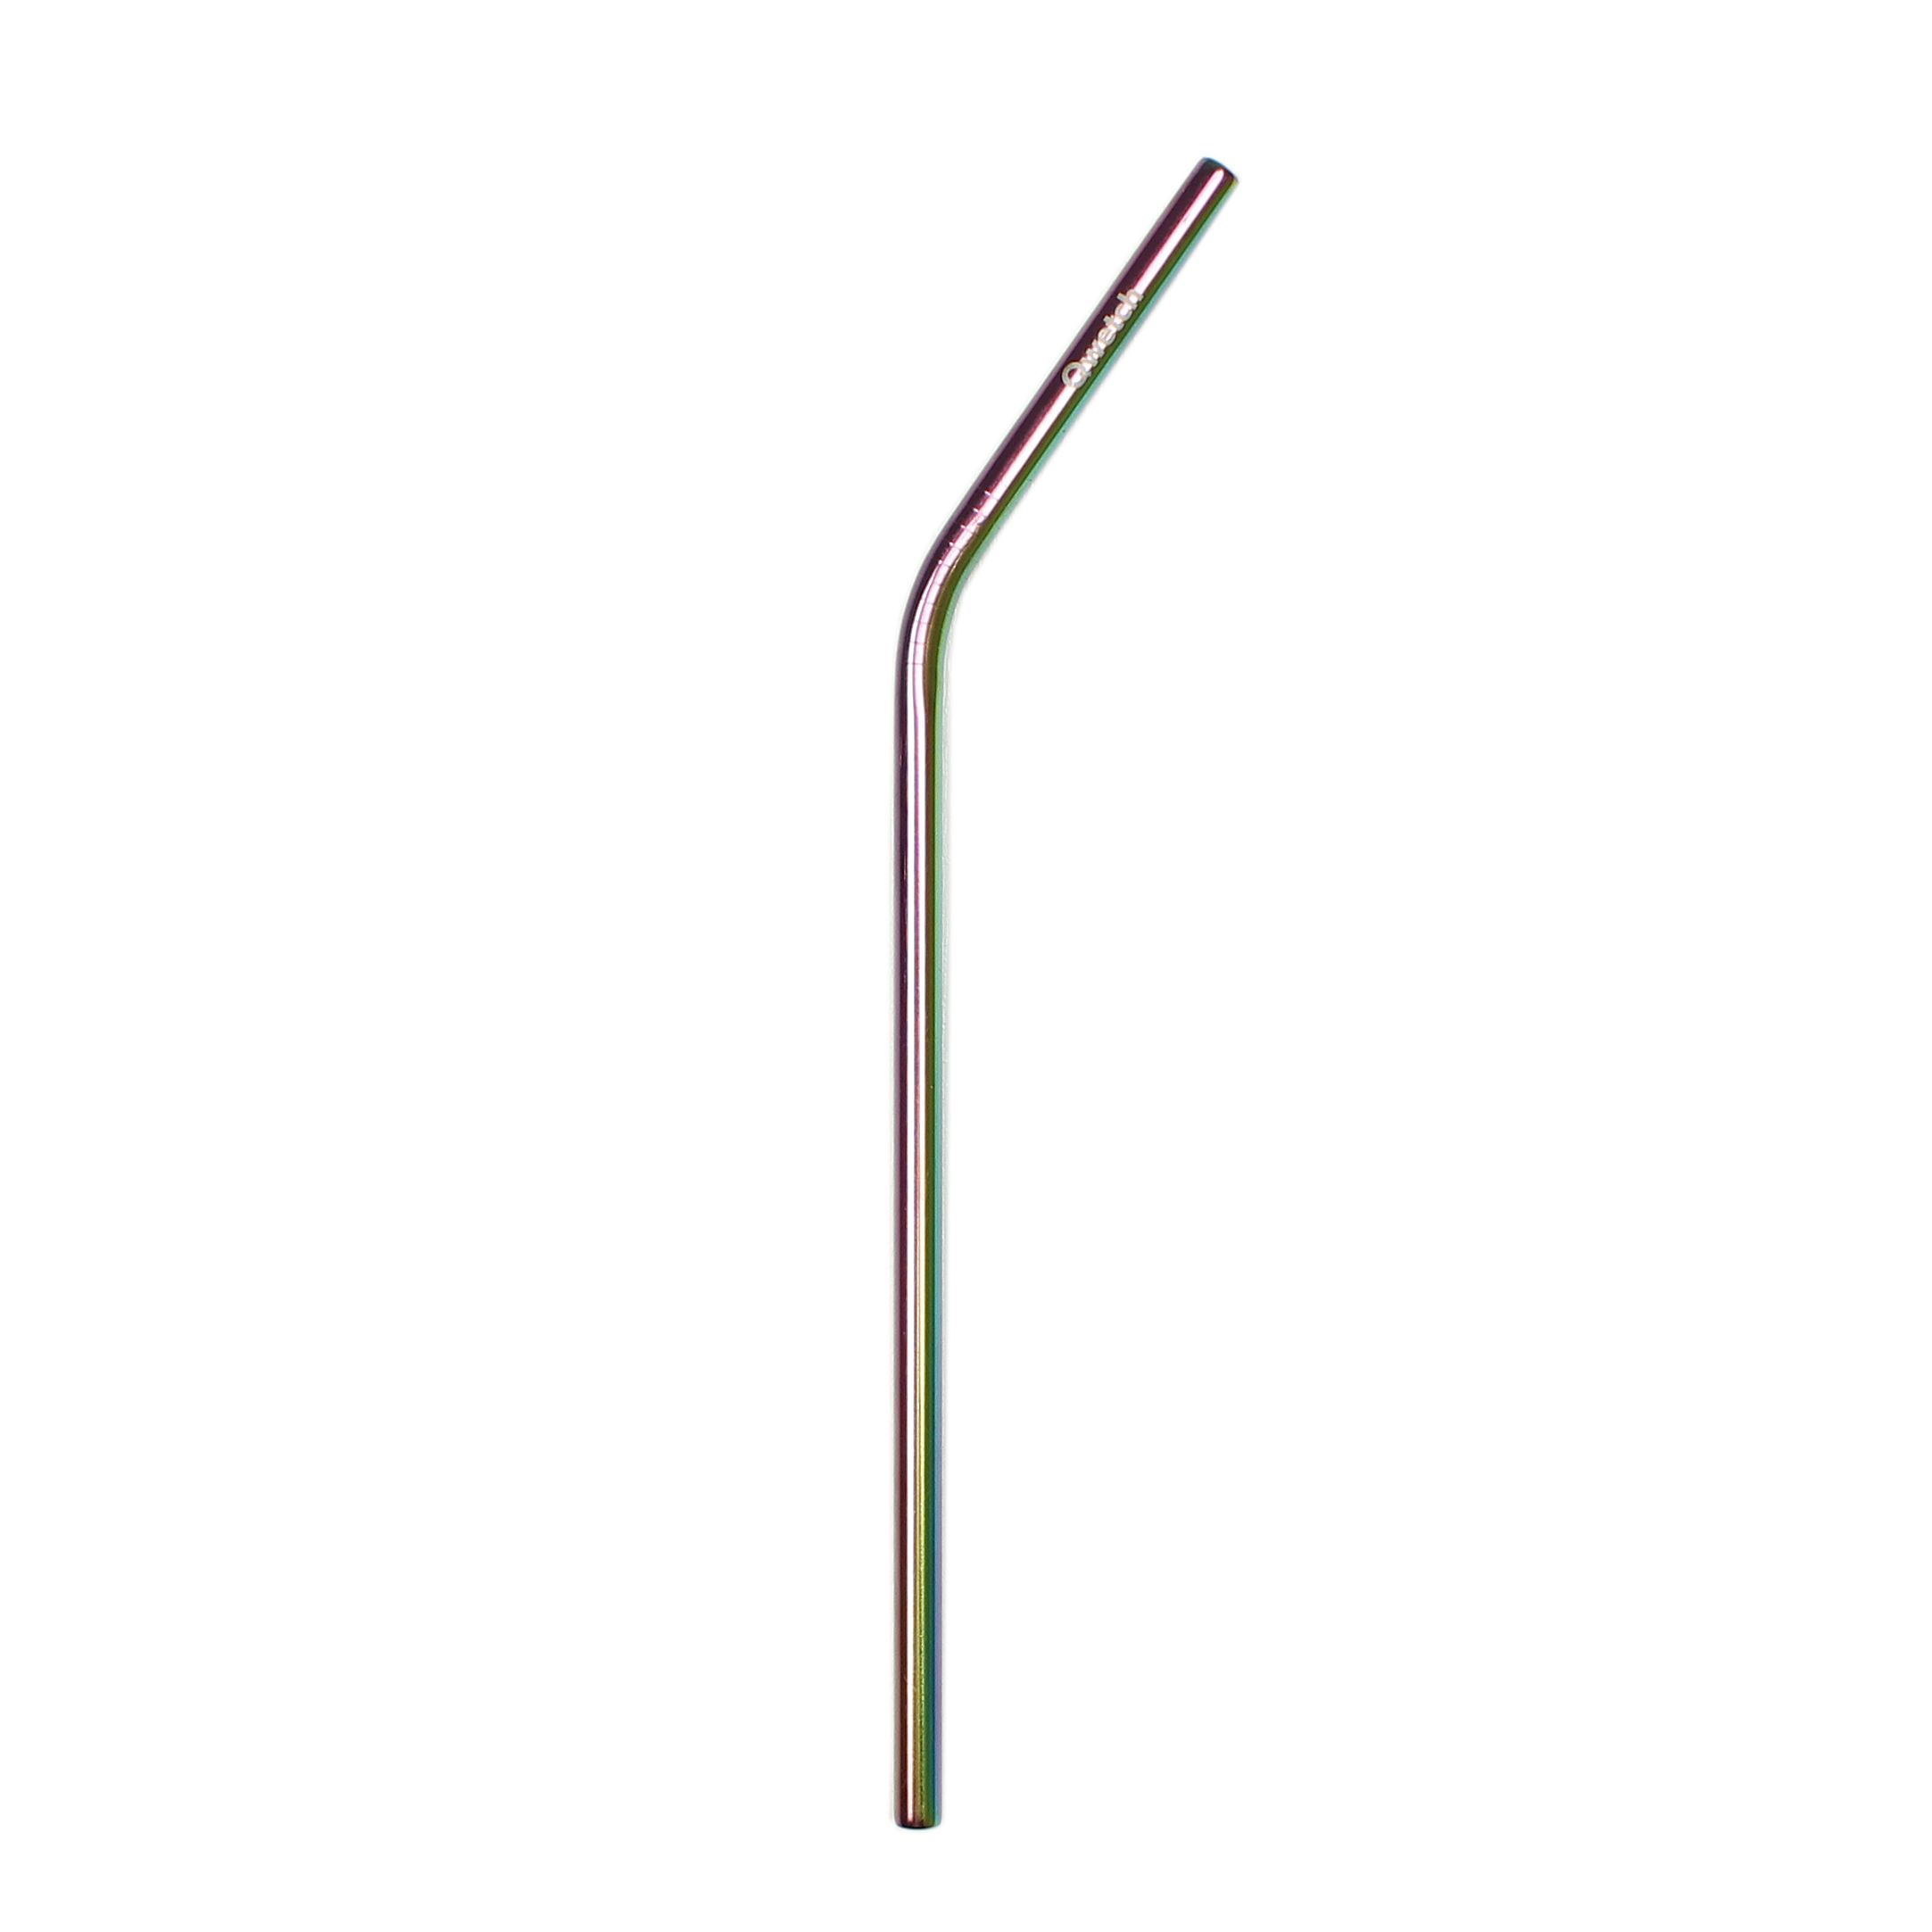Drinking Straw: (870, 142, 1246, 1845)
